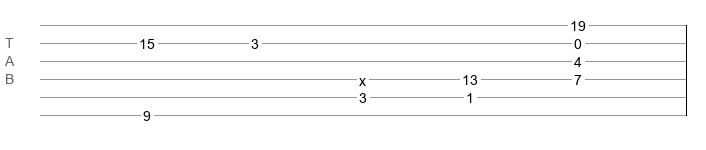0: (574, 36, 582, 46)
1: (466, 90, 474, 100)
13: (462, 72, 478, 82)
15: (139, 36, 155, 46)
19: (570, 18, 586, 28)
3: (251, 36, 259, 46), (359, 90, 367, 100)
4: (574, 54, 582, 64)
7: (574, 72, 582, 82)
9: (143, 108, 151, 118)
x: (359, 73, 366, 81)
